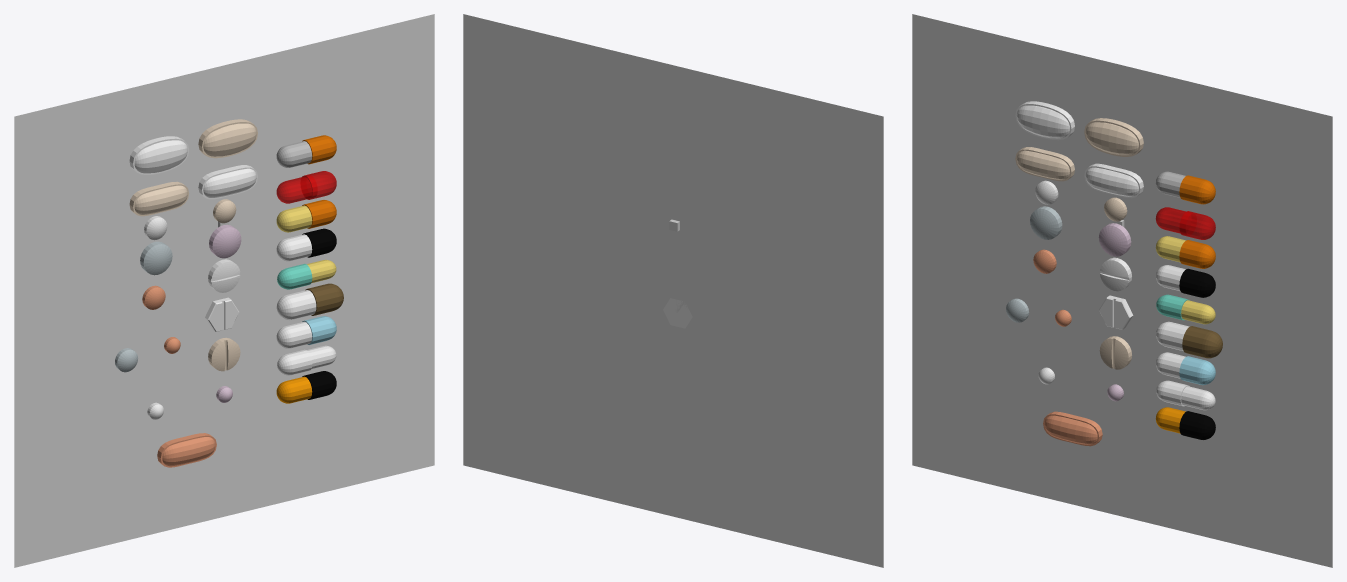
Rendered from pills.dae.
3 renders of one model, left to right at view 1: azimuth 30°, elevation 25°; view 2: azimuth 150°, elevation 25°; view 3: azimuth 330°, elevation 25°, orthographic.
Visible parts, largest first — view 1: Plane01, pill14, pill15, pill16, pill01, pill11, Capsule081, Capsule11, pill09, pill03, pill04, pill06 (+15 smaller); view 2: Plane01, pill05; view 3: Plane01, pill15, pill14, pill16, pill11, pill01, Capsule071, pill03, pill09, pill04, pill06, Capsule08 (+17 smaller).
Part boxes in pixels (<box>): Plane01: <box>14,14,434,567</box>; pill14: <box>198,119,257,158</box>; pill15: <box>129,136,188,174</box>; pill16: <box>157,433,216,467</box>; pill01: <box>198,165,257,199</box>; pill11: <box>129,181,189,216</box>; Capsule081: <box>276,290,316,320</box>; Capsule11: <box>276,175,317,203</box>; pill09: <box>140,241,172,275</box>; pill03: <box>209,224,241,258</box>; pill04: <box>208,259,240,292</box>; pill06: <box>208,337,240,371</box>; Plane01: <box>463,14,883,567</box>; pill05: <box>663,298,692,328</box>; Plane01: <box>912,14,1332,567</box>; pill15: <box>1015,101,1074,140</box>; pill14: <box>1084,118,1143,156</box>; pill16: <box>1043,411,1102,446</box>; pill11: <box>1015,147,1074,181</box>; pill01: <box>1084,163,1143,198</box>; Capsule071: <box>1182,326,1222,358</box>; pill03: <box>1098,223,1131,256</box>; pill09: <box>1030,206,1062,239</box>; pill04: <box>1100,257,1131,291</box>; pill06: <box>1099,336,1131,369</box>; Capsule08: <box>1179,268,1215,297</box>.
Size of the model in its own units: 102 by 7.94 by 105.
